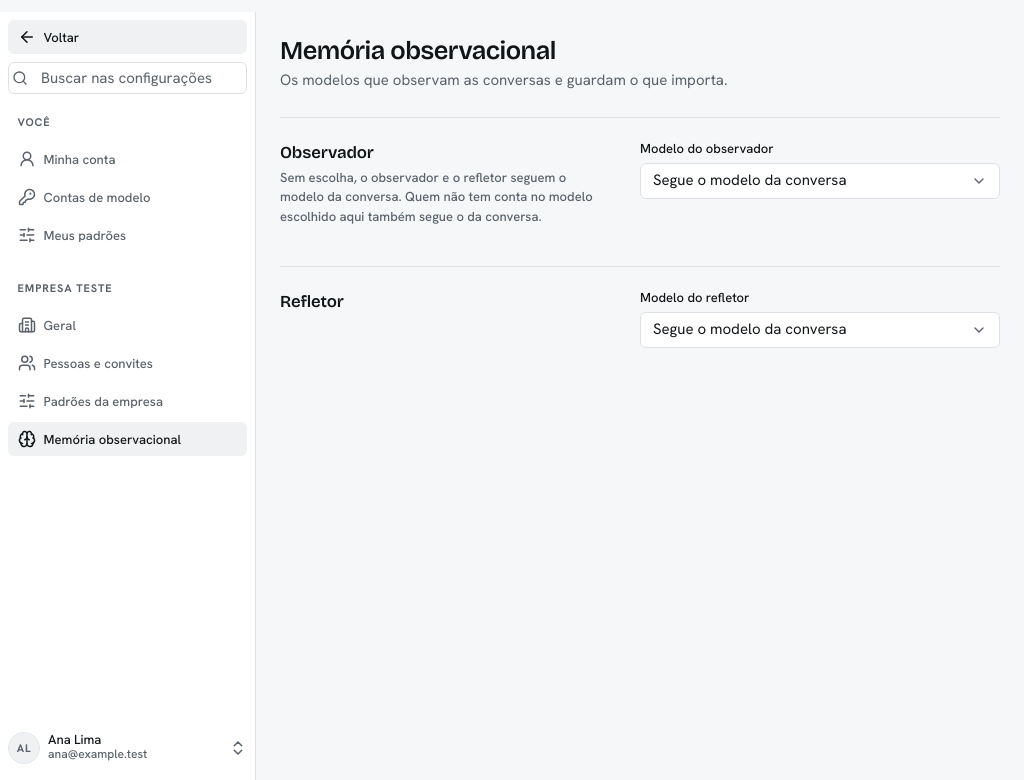
Scenario: o modelo sem conta é recusado, e a tela diz a frase da recusa
The image size is (1024, 780).
Click the dropdown named "Modelo do observador".
click(820, 181)  # box [640,163,1000,199]
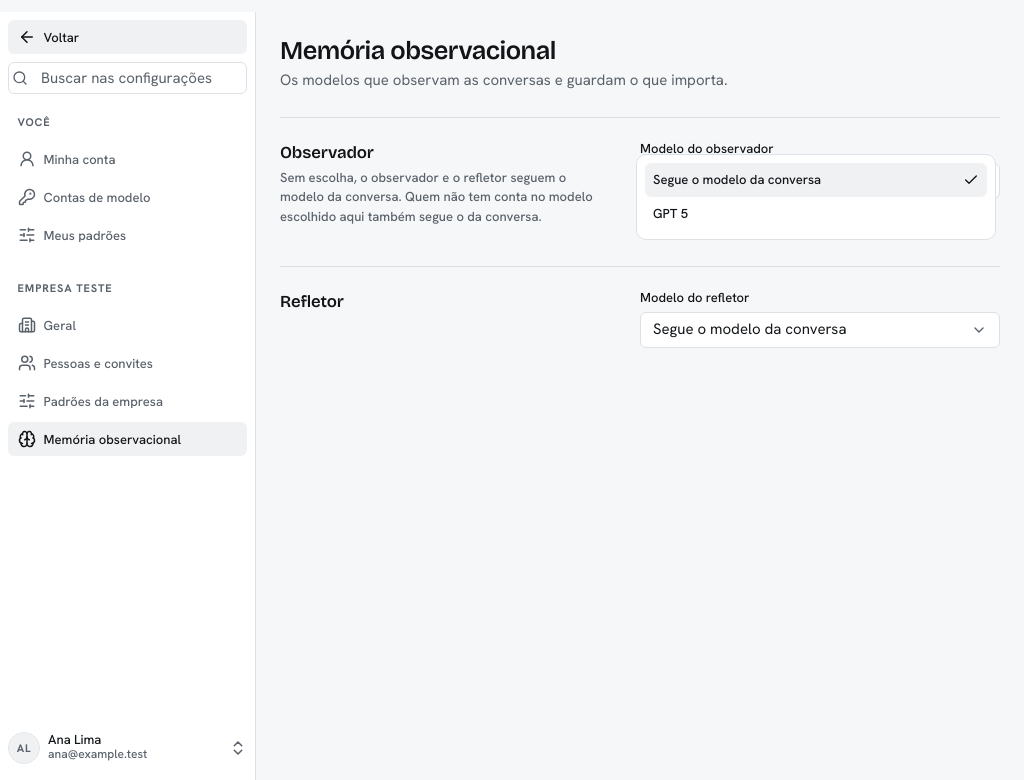
Press the mouse on the option "GPT 5" at [670, 214], box [653,205,688,222]
Click the option "GPT 5".
click(670, 214)  # box [653,205,688,222]
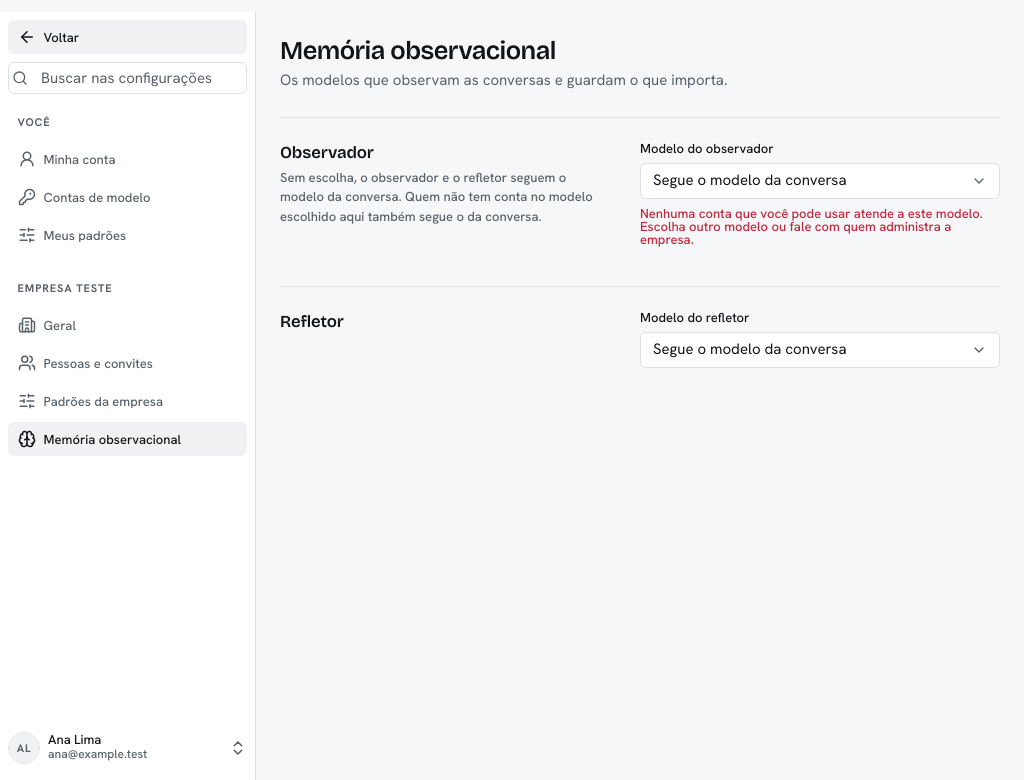
Now the text "Nenhuma conta que você pode usar atende a este modelo. Escolha outro modelo ou fale com quem administra a empresa." is shown, box [640,205,983,248]
